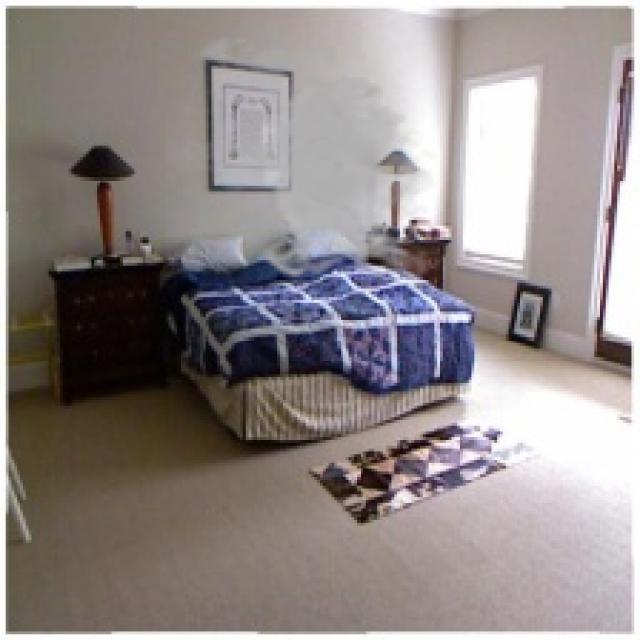Smoke: (166, 28, 437, 283)
